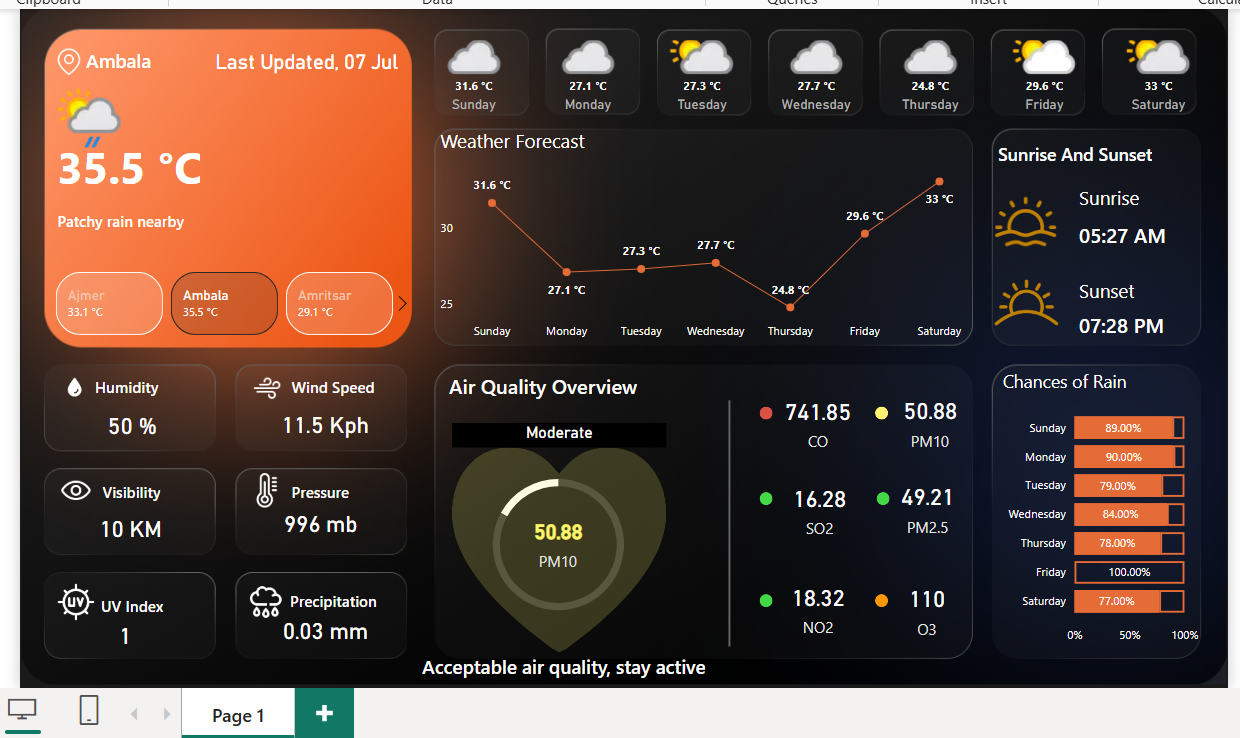

The dashboard page shown, as its layout file describes it:
{"tool":"powerbi","page":{"name":"Page 1","canvas":[1280,720],"ordinal":0},"visuals":[{"type":"donutChart","fields":{"Y":["_Measures.Left_Value_PM10","Sum(Current.current.air_quality.pm10)"]},"box":[407.2,475.6,327.7,184.5],"z":0},{"type":"shape","box":[458.1,439,227.5,243.4],"z":1000},{"type":"card","fields":{"Values":["Sum(Current.current.air_quality.pm10)"]},"box":[528.1,531.3,84.3,66.8],"z":2000},{"type":"advancedSlicerVisual","fields":{"Values":["Location.location.name"]},"box":[12.9,272.9,408.6,77.1],"z":3000},{"type":"shape","box":[40,90,270,150],"z":4000},{"type":"shape","box":[40,150,270,150],"z":5000},{"type":"shape","box":[70,19.1,93.8,71.6],"z":6000},{"type":"image","box":[24.3,37.1,55.7,38.6],"z":8000},{"type":"cardVisual","fields":{"Data":["Min(Current.current.condition.icon)"]},"box":[12.9,55.7,105.7,100],"z":9000},{"type":"image","box":[37.1,385.7,42.9,31.4],"z":10000},{"type":"shape","box":[80,344.3,270,112.9],"z":11000},{"type":"image","box":[237.1,381.4,50,40],"z":12000},{"type":"image","box":[34.3,487.1,48.6,47.1],"z":13000},{"type":"image","box":[222.9,487.1,78.6,47.1],"z":14000},{"type":"image","box":[222.9,602.9,75.7,51.4],"z":15000},{"type":"image","box":[20,602.9,77.1,51.4],"z":16000},{"type":"shape","box":[287.1,344.3,270,112.9],"z":17000},{"type":"shape","box":[286.3,571,268.8,112.9],"z":18000},{"type":"shape","box":[87.1,454.3,270,112.9],"z":19000},{"type":"shape","box":[287.1,454.3,270,112.9],"z":20000},{"type":"shape","box":[85.9,575.8,270.4,112.9],"z":21000},{"type":"card","fields":{"Values":["_Measures.HUMI"]},"box":[35,365.8,167,151.1],"z":22000},{"type":"card","fields":{"Values":["_Measures.Wind_speed"]},"box":[240.2,364.2,167,151.1],"z":23000},{"type":"card","fields":{"Values":["_Measures.Vis"]},"box":[33.4,475.6,167,149.5],"z":24000},{"type":"card","fields":{"Values":["Sum(Current.current.uv)"]},"box":[65.2,625.1,92.3,77.9],"z":25000},{"type":"card","fields":{"Values":["_Measures.Barsaat"]},"box":[265.6,625.1,116.1,66.8],"z":26000},{"type":"card","fields":{"Values":["_Measures.Press"]},"box":[265.6,512.2,106.6,65.2],"z":27000},{"type":"shape","box":[1036.7,105,218.3,98.3],"z":28000},{"type":"shape","box":[1123,175,100.2,50.9],"z":29000},{"type":"shape","box":[1123,262.5,85.9,71.6],"z":30000},{"type":"image","box":[1011.6,260.9,111.3,100.2],"z":31000},{"type":"image","box":[1022.8,187.7,87.5,74.8],"z":32000},{"type":"shape","box":[1123,214.7,106.6,49.3],"z":33000},{"type":"advancedSlicerVisual","fields":{"Values":["Forecast_Day.Day_Name"]},"box":[435.8,27,822.3,88],"z":34000},{"type":"lineChart","title":"Weather Forecast","fields":{"Y":["Sum(Forecast_Day.forecast.forecastday.day.avgtemp_c)"],"Category":["Forecast_Day.Day_Name"]},"box":[440.6,125.7,571,233.8],"z":35000},{"type":"hundredPercentStackedBarChart","title":"Chances of Rain","fields":{"Category":["Forecast_Day.Day_Name"],"Y":["Sum(Forecast_Day.forecast.forecastday.day.daily_chance_of_rain)","_Measures.Left_Value_Rain"]},"box":[1037.1,381.7,217.9,300.6],"z":36000},{"type":"shape","box":[454.9,343.6,270.4,111.3],"z":37000},{"type":"card","fields":{"Values":["Sum(Current.current.air_quality.pm2_5)"]},"box":[914.6,480.4,95.4,93.8],"z":38000},{"type":"card","fields":{"Values":["Sum(Current.current.air_quality.co)"]},"box":[798.5,389.7,95.4,93.8],"z":39000},{"type":"card","fields":{"Values":["Sum(Current.current.air_quality.so2)"]},"box":[800.1,482,95.4,93.8],"z":40000},{"type":"card","fields":{"Values":["Sum(Current.current.air_quality.pm10)"]},"box":[922.6,402.4,84.3,66.8],"z":41000},{"type":"card","fields":{"Values":["Sum(Current.current.air_quality.no2)"]},"box":[798.5,586.9,95.4,93.8],"z":42000},{"type":"card","fields":{"Values":["Sum(Current.current.air_quality.o3)"]},"box":[932.1,599.7,58.9,71.6],"z":43000},{"type":"shape","box":[906.6,421.5,14.3,14.3],"z":44000},{"type":"shape","box":[784.2,421.5,14.3,14.3],"z":45000},{"type":"shape","box":[908.2,512.2,14.3,14.3],"z":46000},{"type":"shape","box":[784.2,620.3,14.3,14.3],"z":47000},{"type":"shape","box":[784.2,512.2,14.3,14.3],"z":48000},{"type":"shape","box":[906.6,620.3,14.3,14.3],"z":49000},{"type":"shape","box":[674.4,415.1,155.9,260.9],"z":50000},{"type":"shape","box":[1123,310.2,100.2,49.3],"z":51000},{"type":"shape","box":[421.5,672.8,310.2,47.7],"z":52000},{"type":"card","fields":{"Values":["_Measures.LastUpdated"]},"box":[186.1,11.1,235.4,87.5],"z":52001}]}

Visuals, with their boxes on the page's 1280x720 design canvas (x1, y1, x2, y2). These are canvas units, not pixel positions in the 1240x738 screenshot, which may show the page scaled, cropped or inside an application window:
donutChart - _Measures.Left_Value_PM10 x Sum(Current.current.air_quality.pm10): <bbox>407, 476, 735, 660</bbox>
shape: <bbox>458, 439, 686, 682</bbox>
card - Sum(Current.current.air_quality.pm10): <bbox>528, 531, 612, 598</bbox>
advancedSlicerVisual - Location.location.name: <bbox>13, 273, 422, 350</bbox>
shape: <bbox>40, 90, 310, 240</bbox>
shape: <bbox>40, 150, 310, 300</bbox>
shape: <bbox>70, 19, 164, 91</bbox>
image: <bbox>24, 37, 80, 76</bbox>
cardVisual - Min(Current.current.condition.icon): <bbox>13, 56, 119, 156</bbox>
image: <bbox>37, 386, 80, 417</bbox>
shape: <bbox>80, 344, 350, 457</bbox>
image: <bbox>237, 381, 287, 421</bbox>
image: <bbox>34, 487, 83, 534</bbox>
image: <bbox>223, 487, 302, 534</bbox>
image: <bbox>223, 603, 299, 654</bbox>
image: <bbox>20, 603, 97, 654</bbox>
shape: <bbox>287, 344, 557, 457</bbox>
shape: <bbox>286, 571, 555, 684</bbox>
shape: <bbox>87, 454, 357, 567</bbox>
shape: <bbox>287, 454, 557, 567</bbox>
shape: <bbox>86, 576, 356, 689</bbox>
card - _Measures.HUMI: <bbox>35, 366, 202, 517</bbox>
card - _Measures.Wind_speed: <bbox>240, 364, 407, 515</bbox>
card - _Measures.Vis: <bbox>33, 476, 200, 625</bbox>
card - Sum(Current.current.uv): <bbox>65, 625, 158, 703</bbox>
card - _Measures.Barsaat: <bbox>266, 625, 382, 692</bbox>
card - _Measures.Press: <bbox>266, 512, 372, 577</bbox>
shape: <bbox>1037, 105, 1255, 203</bbox>
shape: <bbox>1123, 175, 1223, 226</bbox>
shape: <bbox>1123, 262, 1209, 334</bbox>
image: <bbox>1012, 261, 1123, 361</bbox>
image: <bbox>1023, 188, 1110, 262</bbox>
shape: <bbox>1123, 215, 1230, 264</bbox>
advancedSlicerVisual - Forecast_Day.Day_Name: <bbox>436, 27, 1258, 115</bbox>
"Weather Forecast" lineChart: <bbox>441, 126, 1012, 360</bbox>
"Chances of Rain" hundredPercentStackedBarChart: <bbox>1037, 382, 1255, 682</bbox>
shape: <bbox>455, 344, 725, 455</bbox>
card - Sum(Current.current.air_quality.pm2_5): <bbox>915, 480, 1010, 574</bbox>
card - Sum(Current.current.air_quality.co): <bbox>798, 390, 894, 484</bbox>
card - Sum(Current.current.air_quality.so2): <bbox>800, 482, 896, 576</bbox>
card - Sum(Current.current.air_quality.pm10): <bbox>923, 402, 1007, 469</bbox>
card - Sum(Current.current.air_quality.no2): <bbox>798, 587, 894, 681</bbox>
card - Sum(Current.current.air_quality.o3): <bbox>932, 600, 991, 671</bbox>
shape: <bbox>907, 422, 921, 436</bbox>
shape: <bbox>784, 422, 798, 436</bbox>
shape: <bbox>908, 512, 922, 526</bbox>
shape: <bbox>784, 620, 798, 635</bbox>
shape: <bbox>784, 512, 798, 526</bbox>
shape: <bbox>907, 620, 921, 635</bbox>
shape: <bbox>674, 415, 830, 676</bbox>
shape: <bbox>1123, 310, 1223, 360</bbox>
shape: <bbox>422, 673, 732, 720</bbox>
card - _Measures.LastUpdated: <bbox>186, 11, 422, 99</bbox>
